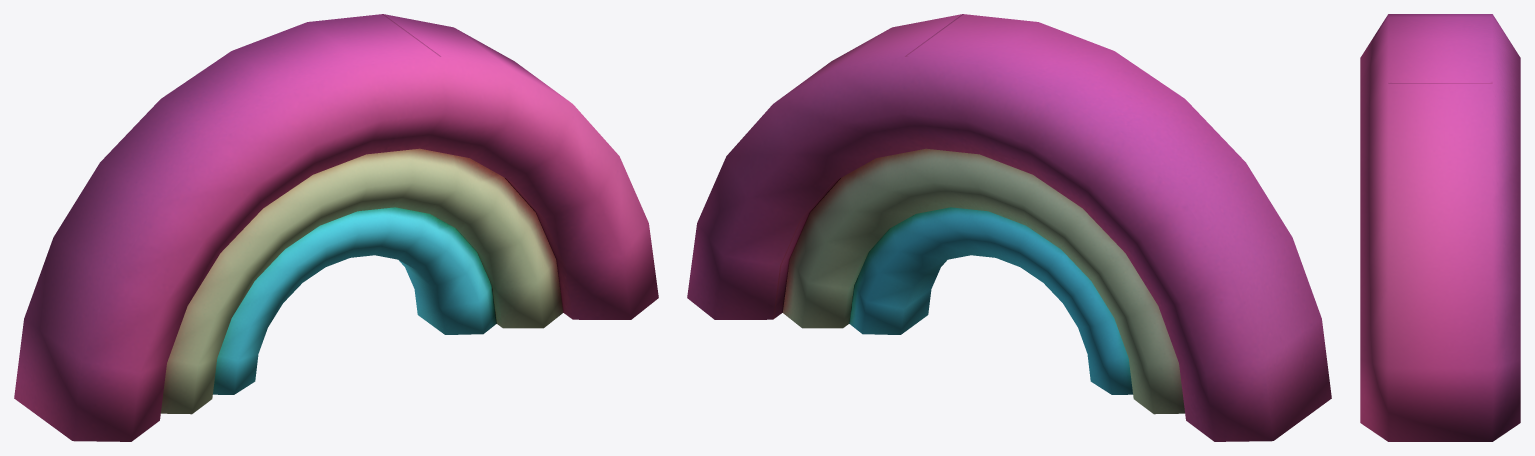
The model's file is Rainbow.fbx.
3 views of the same model, side by side, from view 1: azimuth 30°, elevation 25°; view 2: azimuth 150°, elevation 25°; view 3: azimuth 270°, elevation 25° (orthographic). The views are drawn at different scales.
Visible parts, largest first — view 1: Rainbow; view 2: Rainbow; view 3: Rainbow.
Boxes of the visible parts, left/top/right/bottom form: Rainbow: left=14, top=14, right=658, bottom=441; Rainbow: left=687, top=14, right=1331, bottom=441; Rainbow: left=1360, top=14, right=1520, bottom=441.
Bounding box in the file's own units: 3.67 × 1.82 × 0.9716.
